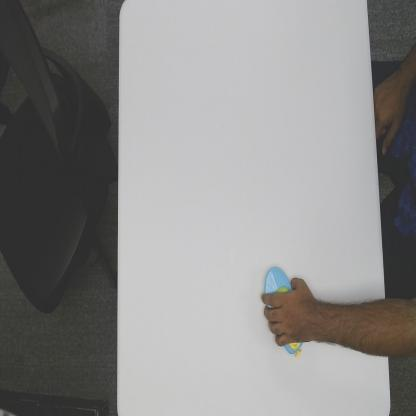Arm: (317, 299, 388, 360)
Boat: (264, 263, 302, 360)
Hand: (261, 275, 316, 349)
